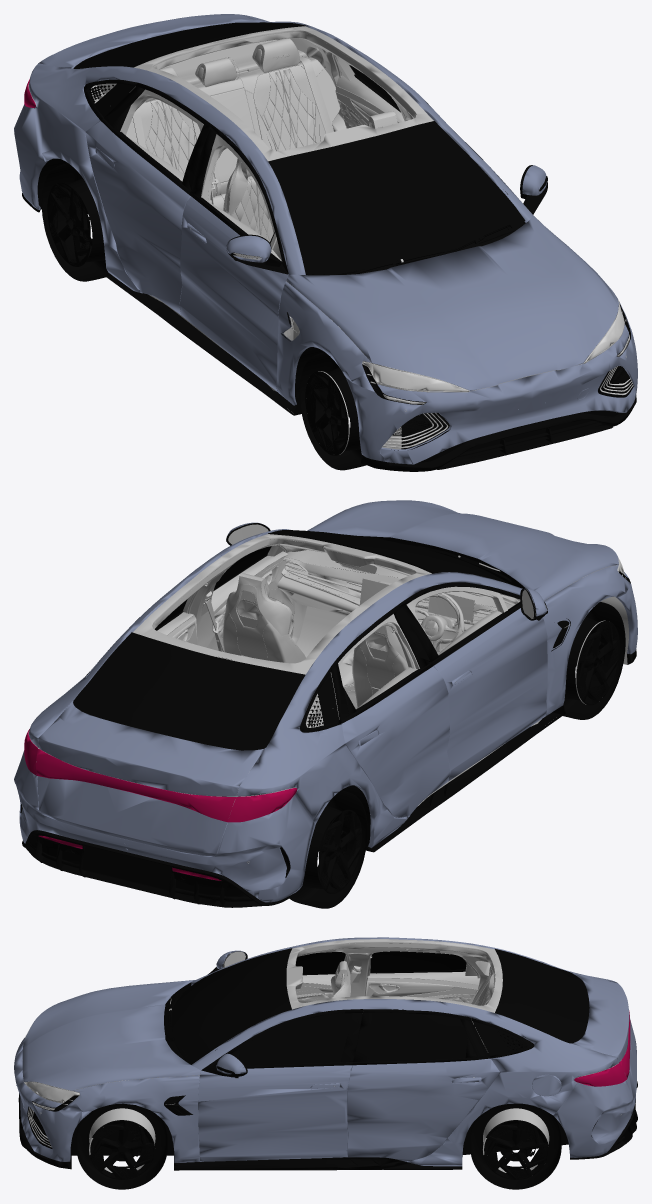
The model's file is byd-seal.glb.
The picture shows the model from 3 angles, top to bottom: view 1: azimuth 30°, elevation 25°; view 2: azimuth 150°, elevation 25°; view 3: azimuth 270°, elevation 25°; orthographic projection. The views are drawn at different scales.
Parts seen in each view (by area): view 1: Object_6, Object_7, Object_5, Object_4, Object_8; view 2: Object_6, Object_7, Object_4, Object_5, Object_8; view 3: Object_6, Object_4, Object_8, Object_5, Object_7.
Part boxes in pixels (x1,y1,x2,y2): Object_6: [14, 14, 637, 471]; Object_7: [24, 63, 469, 450]; Object_5: [28, 38, 633, 448]; Object_4: [38, 14, 624, 470]; Object_8: [49, 187, 89, 262]; Object_6: [14, 500, 637, 907]; Object_7: [172, 557, 624, 908]; Object_4: [37, 522, 625, 861]; Object_5: [24, 509, 630, 848]; Object_8: [321, 812, 360, 887]; Object_6: [14, 937, 637, 1169]; Object_4: [16, 971, 636, 1170]; Object_8: [76, 1103, 561, 1189]; Object_5: [23, 943, 626, 1178]; Object_7: [25, 943, 494, 1037].
Bounding box in the file's own units: 0.0835 × 0.0579 × 0.1867.
